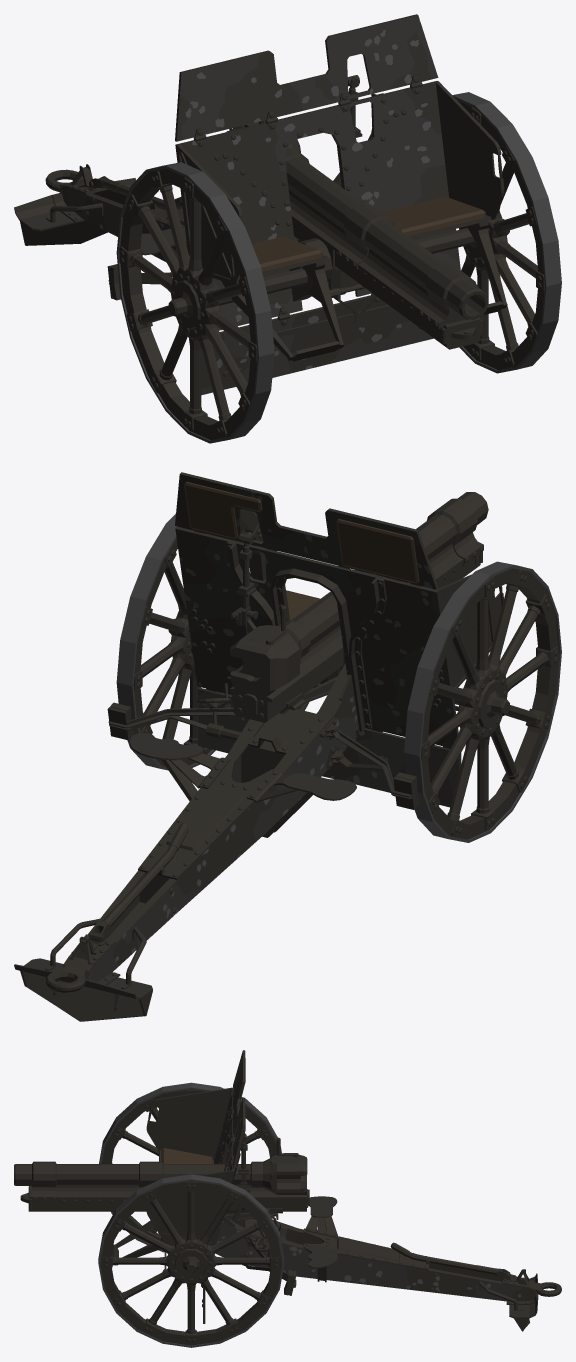
The model's file is Veh_FK-96_01.fbx.
3 views of the same model, one above another, from view 1: azimuth 30°, elevation 25°; view 2: azimuth 150°, elevation 25°; view 3: azimuth 270°, elevation 25° (orthographic). The views are drawn at different scales.
Parts seen in each view (by area): view 1: Veh_FK-96_01_Shield_LOD0, Veh_FK-96_01_Wheel_R_LOD0, Veh_FK-96_01_Gun_LOD0, Veh_FK-96_01_Wheel_L_LOD0, Veh_FK-96_01_LOD0, Veh_FK-96_01_Cannon_LOD0; view 2: Veh_FK-96_01_Shield_LOD0, Veh_FK-96_01_LOD0, Veh_FK-96_01_Wheel_R_LOD0, Veh_FK-96_01_Gun_LOD0, Veh_FK-96_01_Wheel_L_LOD0, Veh_FK-96_01_Cannon_LOD0, Veh_FK-96_01_Shutter_LOD0; view 3: Veh_FK-96_01_Wheel_L_LOD0, Veh_FK-96_01_LOD0, Veh_FK-96_01_Shield_LOD0, Veh_FK-96_01_Gun_LOD0, Veh_FK-96_01_Wheel_R_LOD0, Veh_FK-96_01_Cannon_LOD0, Veh_FK-96_01_Shutter_LOD0.
Boxes of the visible parts, x1,y1,x2,y2 form: Veh_FK-96_01_Shield_LOD0: (175,14,507,395); Veh_FK-96_01_Wheel_R_LOD0: (116,162,274,443); Veh_FK-96_01_Gun_LOD0: (233,120,488,329); Veh_FK-96_01_Wheel_L_LOD0: (452,92,561,373); Veh_FK-96_01_LOD0: (14,164,509,336); Veh_FK-96_01_Cannon_LOD0: (292,75,482,349); Veh_FK-96_01_Shield_LOD0: (175,472,503,807); Veh_FK-96_01_LOD0: (14,618,509,1021); Veh_FK-96_01_Wheel_R_LOD0: (404,561,561,842); Veh_FK-96_01_Gun_LOD0: (229,492,488,720); Veh_FK-96_01_Wheel_L_LOD0: (116,509,266,770); Veh_FK-96_01_Cannon_LOD0: (227,532,482,722); Veh_FK-96_01_Shutter_LOD0: (235,643,299,689); Veh_FK-96_01_Wheel_L_LOD0: (98,1174,284,1347); Veh_FK-96_01_LOD0: (162,1196,561,1331); Veh_FK-96_01_Shield_LOD0: (112,1050,245,1323); Veh_FK-96_01_Gun_LOD0: (14,1137,309,1207); Veh_FK-96_01_Wheel_R_LOD0: (99,1082,281,1252); Veh_FK-96_01_Cannon_LOD0: (20,1133,306,1225); Veh_FK-96_01_Shutter_LOD0: (277,1172,300,1190).
Size of what is drawn, in the model's own units: 194 by 199 by 420.
